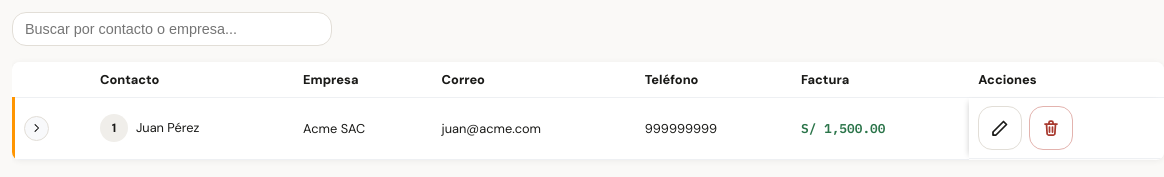
Test: LeadsTable › muestra 0 filas de datos y el mensaje sin-resultados cuando la búsqueda no tiene coincidencias
The width and height of the screenshot is (1164, 177).
In the search field with class "leads-table__busqueda": (172, 29) [12,12,332,46], type "texto-que-no-existe-en-ningun-lead"
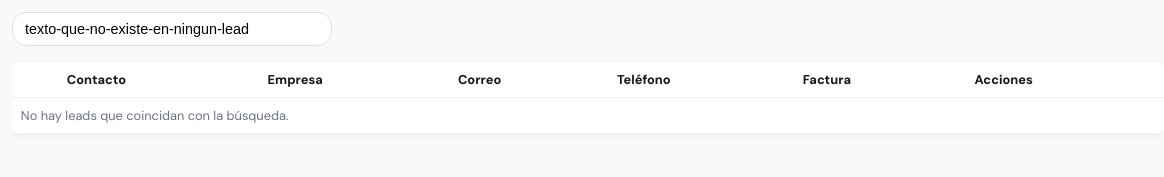
Now no rows with class "leads-table__fila" are shown
Now the cell with class "leads-table__sin-resultados" is shown, box [12,98,1163,134]
Now the cell with class "leads-table__sin-resultados" reads "No hay leads que coincidan con la búsqueda.", box [21,107,288,124]
